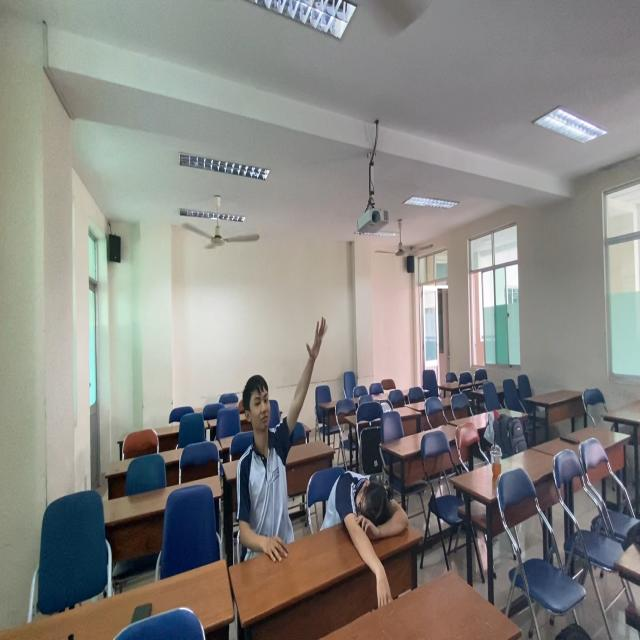raise_hand: (238, 310, 327, 545)
sleep: (324, 460, 413, 543)
